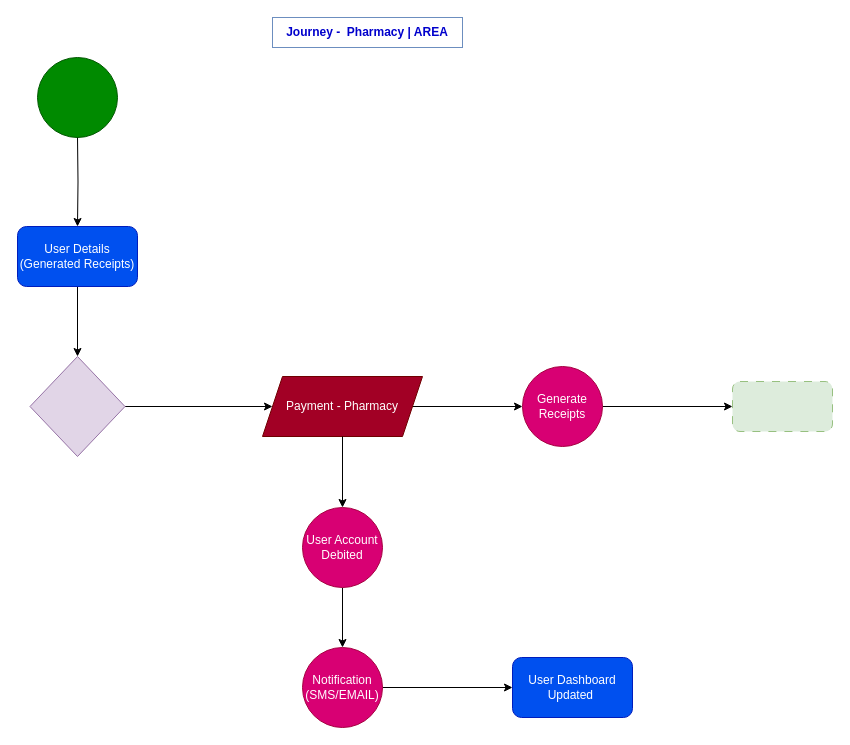
Some shapes in this 850 by 745 pixel diagram are drawn without their labels. The centre of each missing label's shape, as x and y in pixels:
Exit: pixel 782 406
Pharmacy: pixel 77 97
Verifies User (Contract): pixel 77 406
